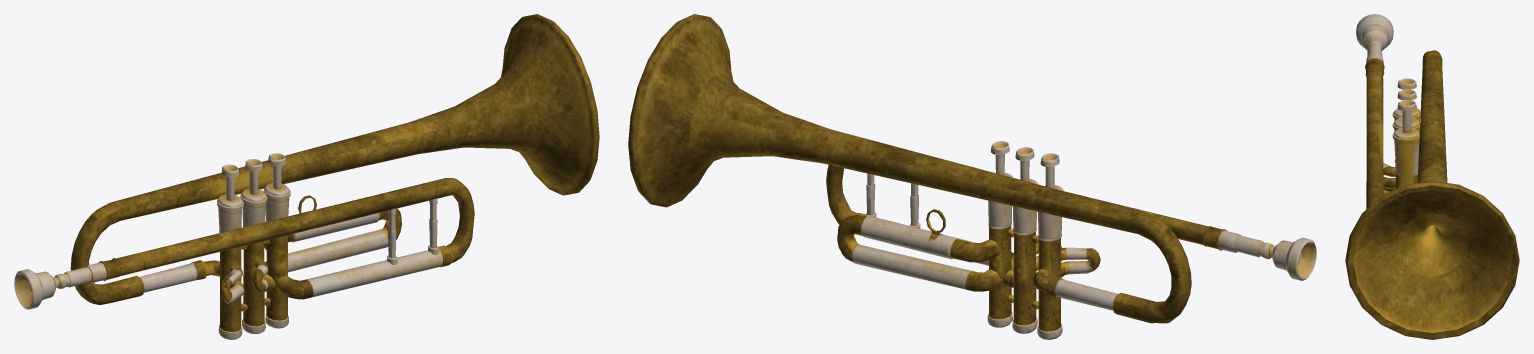
File: realtrumpet.glb
The picture shows the model from 3 angles, left to right: view 1: azimuth 30°, elevation 25°; view 2: azimuth 150°, elevation 25°; view 3: azimuth 270°, elevation 25°; orthographic projection. The views are drawn at different scales.
Visible parts, largest first — view 1: g; view 2: g; view 3: g.
Boxes of the visible parts, x1=… form: g: x1=14, y1=14, x2=599, y2=339; g: x1=628, y1=14, x2=1316, y2=339; g: x1=1345, y1=14, x2=1519, y2=339.
Size of the model in its own units: 0.55 by 0.2102 by 0.1575.
Materials: 1 (1 with a texture image).
